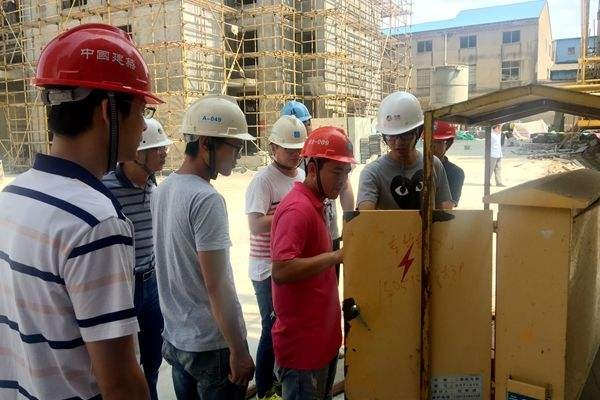red: (28, 19, 150, 171), (299, 124, 356, 202), (418, 115, 455, 160)
white: (177, 89, 254, 181), (370, 88, 426, 161), (123, 114, 171, 177), (267, 114, 312, 171)
